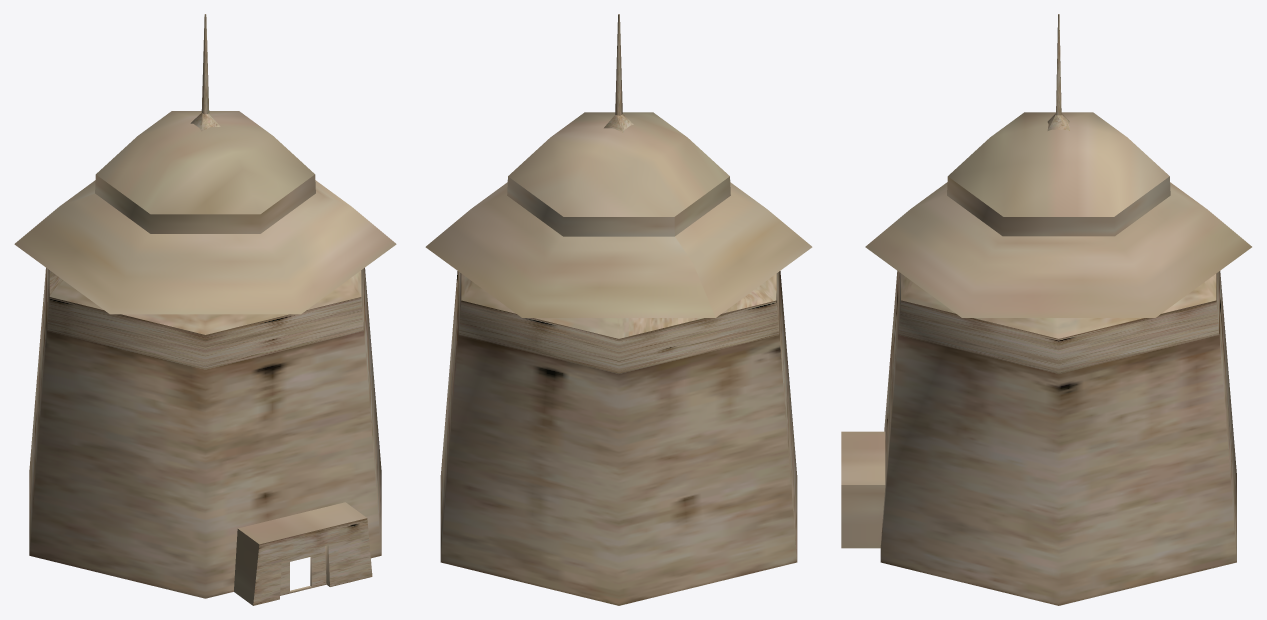
The model's file is thm_tato_imprv_building_s07_r0_mesh_l2.fbx.
3 views of the same model, side by side, from view 1: azimuth 30°, elevation 25°; view 2: azimuth 150°, elevation 25°; view 3: azimuth 270°, elevation 25° (orthographic).
Visible parts, largest first — view 1: mesh_node; view 2: mesh_node; view 3: mesh_node.
Boxes of the visible parts, x1=… form: mesh_node: x1=14, y1=14, x2=396, y2=605; mesh_node: x1=425, y1=14, x2=812, y2=605; mesh_node: x1=841, y1=14, x2=1251, y2=605.
Size of the model in its own units: 32.88 by 44.48 by 32.84.
